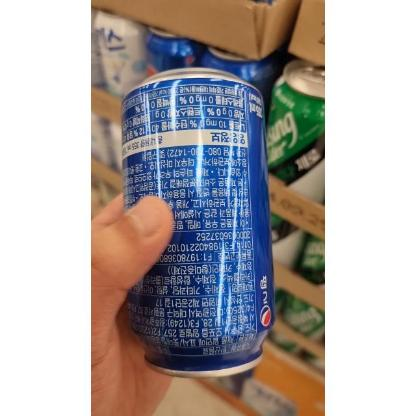Can: (118, 65, 276, 379)
